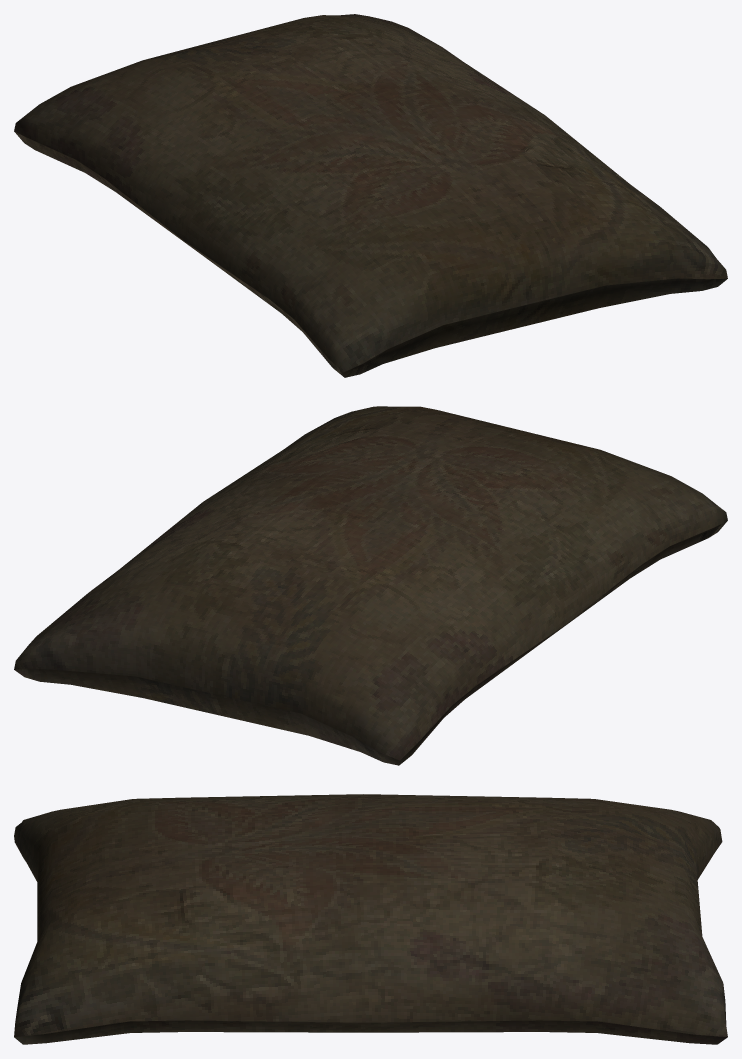
File: pillow_mp_1.glb
The picture shows the model from 3 angles, top to bottom: view 1: azimuth 30°, elevation 25°; view 2: azimuth 150°, elevation 25°; view 3: azimuth 270°, elevation 25°; orthographic projection. The views are drawn at different scales.
Parts seen in each view (by area): view 1: pillow_mp_1; view 2: pillow_mp_1; view 3: pillow_mp_1.
Part boxes in pixels (<box>): pillow_mp_1: <box>14,14,727,377</box>; pillow_mp_1: <box>14,406,727,765</box>; pillow_mp_1: <box>14,794,727,1044</box>.
Size of the model in its own units: 0.5481 by 0.1624 by 0.814.
Materials: 1 (1 with a texture image).
